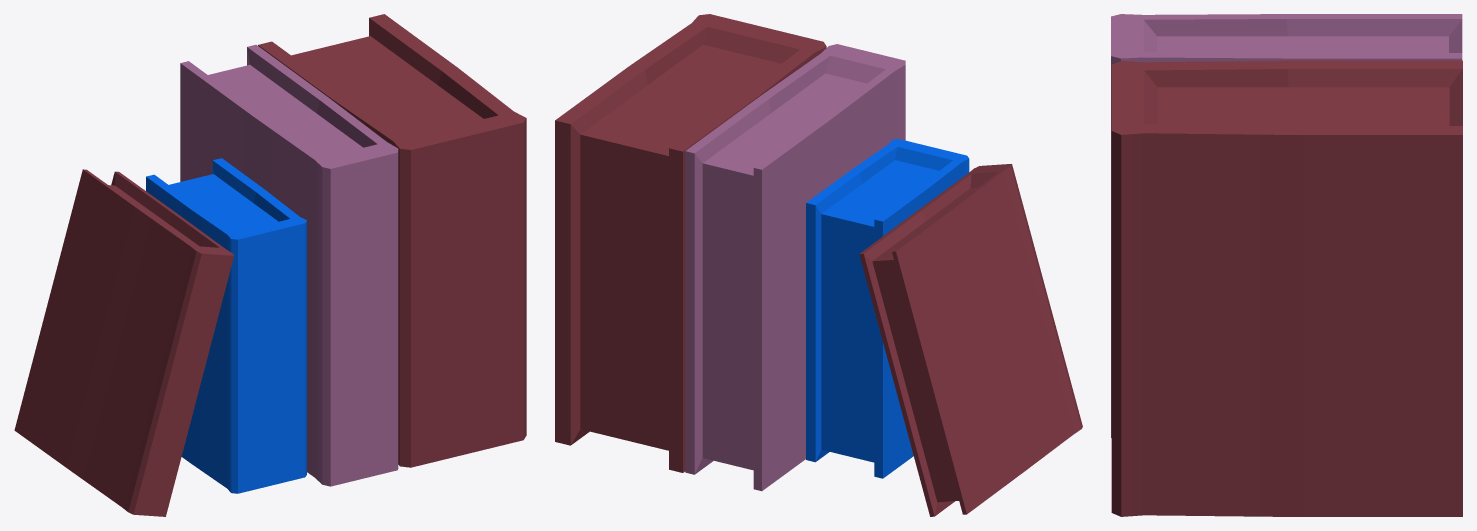
Rendered from books_01.fbx.
The picture shows the model from 3 angles, left to right: view 1: azimuth 30°, elevation 25°; view 2: azimuth 150°, elevation 25°; view 3: azimuth 270°, elevation 25°; orthographic projection. The views are drawn at different scales.
Parts seen in each view (by area): view 1: Book, Book2, Book3, Book4; view 2: Book, Book2, Book3, Book4; view 3: Book, Book2.
Boxes of the visible parts, x1,y1,x2,y2 form: Book: (258,14,526,467); Book2: (180,44,398,486); Book3: (14,169,233,516); Book4: (146,158,306,493); Book: (555,14,826,472); Book2: (685,44,905,491); Book3: (859,164,1082,516); Book4: (806,139,969,478); Book: (1111,60,1462,516); Book2: (1111,14,1462,437).
Bounding box in the file's own units: 1.54 × 1.21 × 1.
